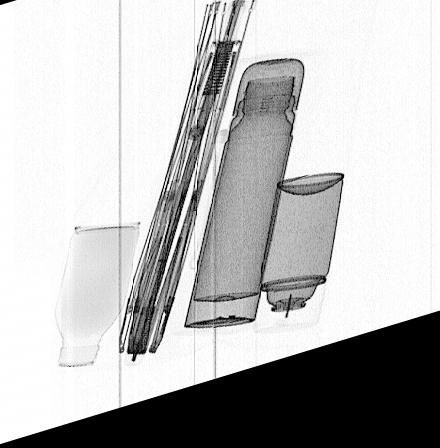Sprayer: (253, 191, 345, 351)
